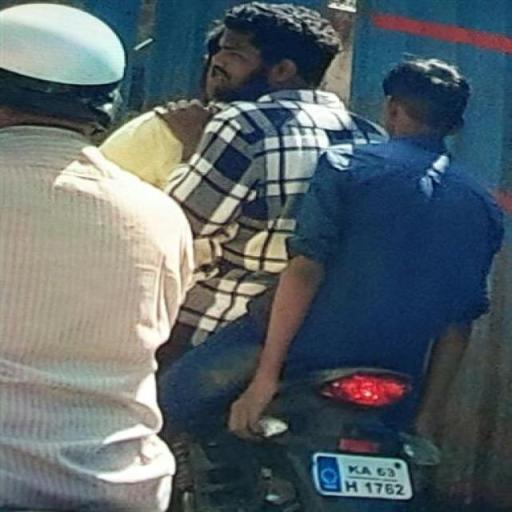tripple riding: (127, 2, 505, 360)
